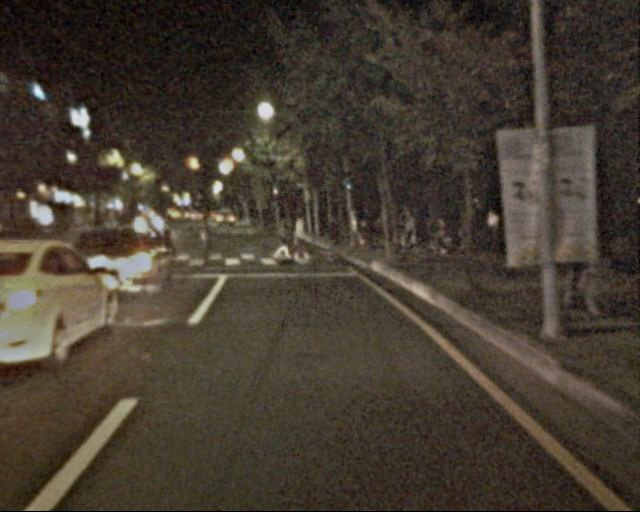person: (149, 209, 176, 274), (193, 211, 218, 264), (454, 204, 477, 254), (290, 211, 312, 262), (274, 214, 296, 265), (398, 205, 419, 255), (326, 211, 346, 263)
